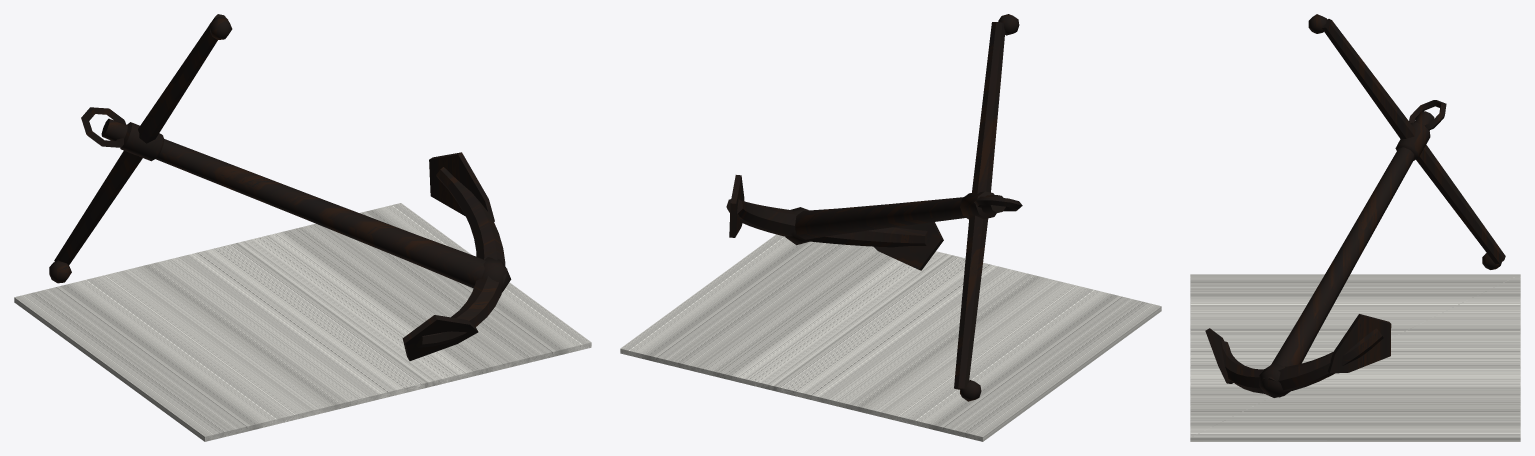
File: SM_Morin_AncoraMonumento_LOD1.fbx
3 renders of one model, left to right at view 1: azimuth 30°, elevation 25°; view 2: azimuth 150°, elevation 25°; view 3: azimuth 270°, elevation 25°, orthographic. The views are drawn at different scales.
Visible parts, largest first — view 1: SM_Morin_AncoraMonumento_LOD1; view 2: SM_Morin_AncoraMonumento_LOD1; view 3: SM_Morin_AncoraMonumento_LOD1.
Boxes of the visible parts, left/top/right/bottom form: SM_Morin_AncoraMonumento_LOD1: left=14, top=14, right=591, bottom=441; SM_Morin_AncoraMonumento_LOD1: left=620, top=14, right=1161, bottom=441; SM_Morin_AncoraMonumento_LOD1: left=1190, top=14, right=1520, bottom=441.
Size of the model in its own units: 316 by 270 by 272.
2 materials, 2 textured.
